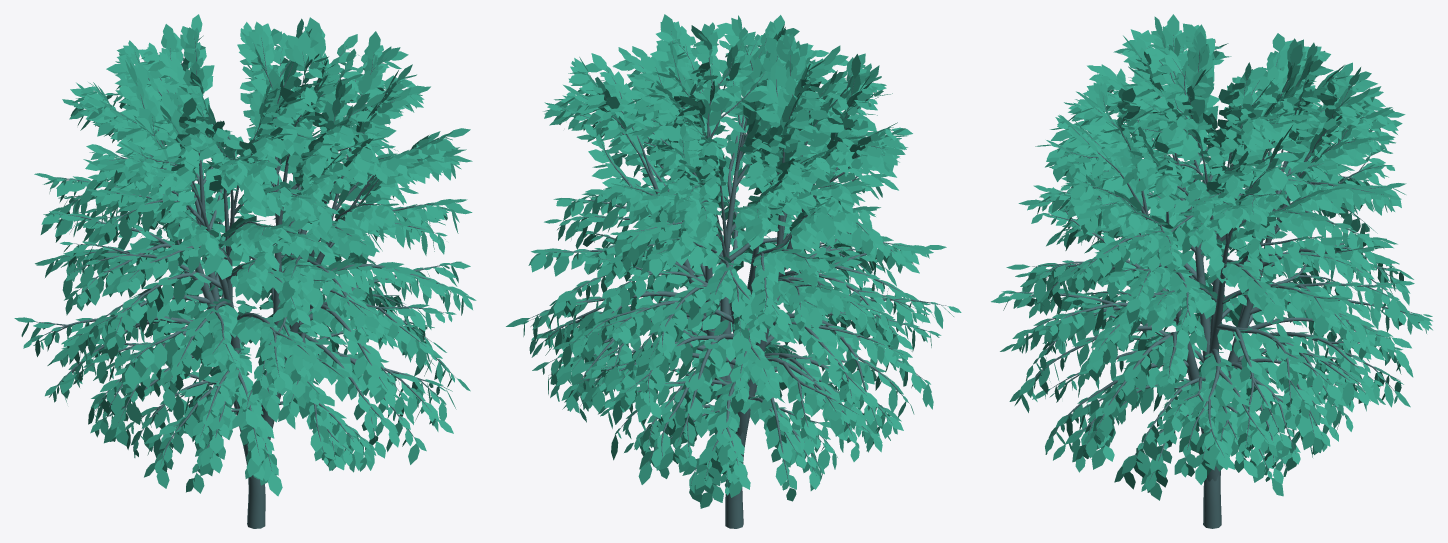
The model's file is tree_far.fbx.
3 renders of one model, left to right at view 1: azimuth 30°, elevation 25°; view 2: azimuth 150°, elevation 25°; view 3: azimuth 270°, elevation 25°, orthographic.
Visible parts, largest first — view 1: leaves, tree; view 2: leaves, tree; view 3: leaves, tree.
Part boxes in pixels (x1,y1,x2,y2): leaves: (14, 14, 476, 496); tree: (29, 37, 455, 528); leaves: (506, 14, 961, 508); tree: (526, 31, 947, 528); leaves: (991, 14, 1432, 500); tree: (1010, 35, 1421, 528).
Size of the model in its own units: 9.48 by 11.68 by 9.83.
